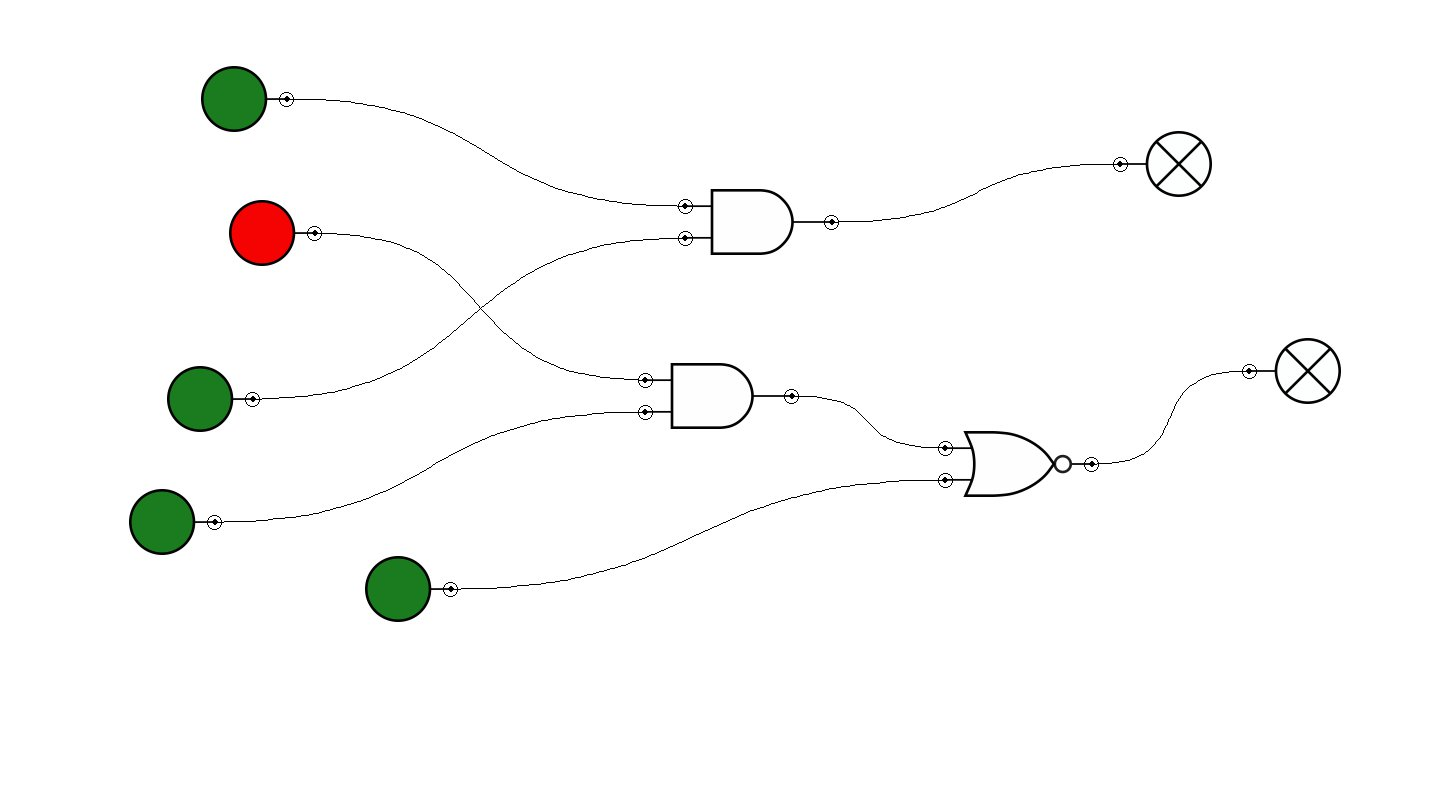and: (638, 363, 799, 429), (678, 189, 839, 255)
bulb: (1113, 131, 1212, 197), (1242, 338, 1341, 404)
nor: (938, 431, 1099, 497)
switch_False: (229, 200, 322, 266)
switch_True: (365, 556, 458, 622), (129, 489, 222, 555), (167, 366, 260, 432), (201, 66, 294, 132)
